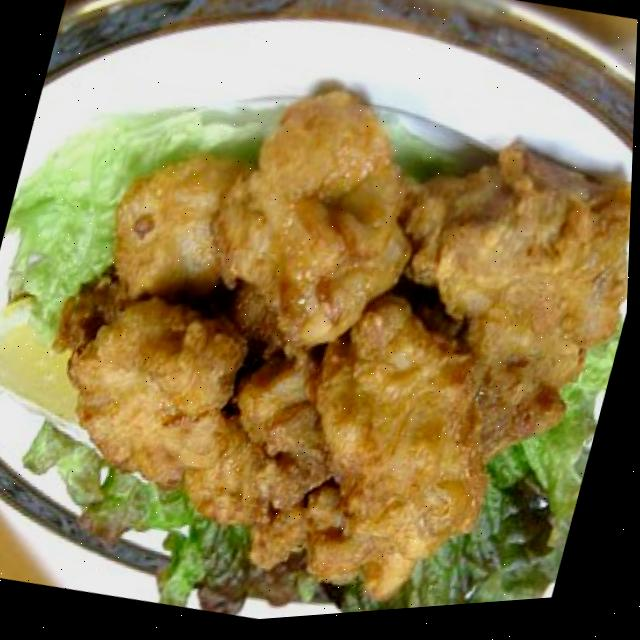鸡肉料理 含炸鸡: (0, 18, 638, 639)
